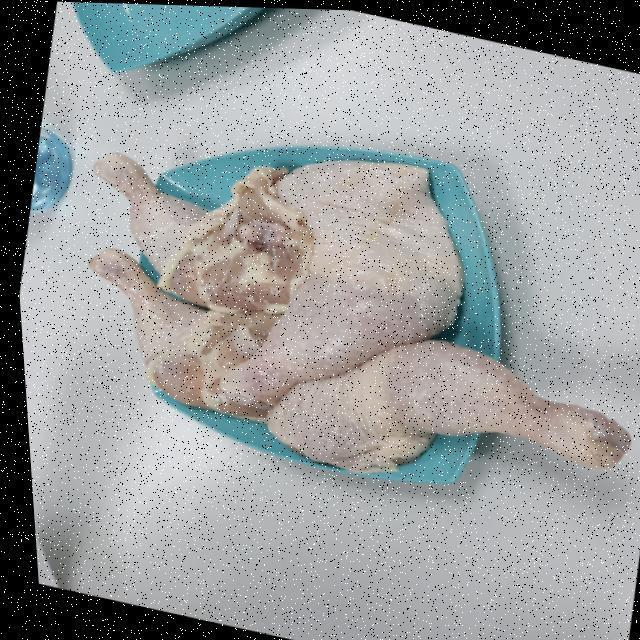quater: (212, 182, 466, 400), (287, 342, 632, 498), (95, 244, 278, 406), (96, 147, 294, 296)
